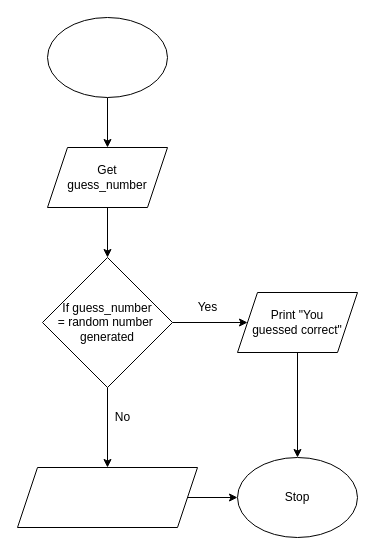
The diagram is 375 pixels wide and 555 high, and some of its shapes have lost their labels. The box of each missing label's shape, as (x1, y1, x2, y2) in pixels:
Print "You guessed wrong. The correct number was random number generated": (16, 466, 198, 528)
Start: (46, 16, 168, 98)
